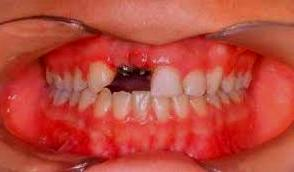Caries: (113, 61, 149, 80)
Hypodontia: (112, 68, 156, 97)
